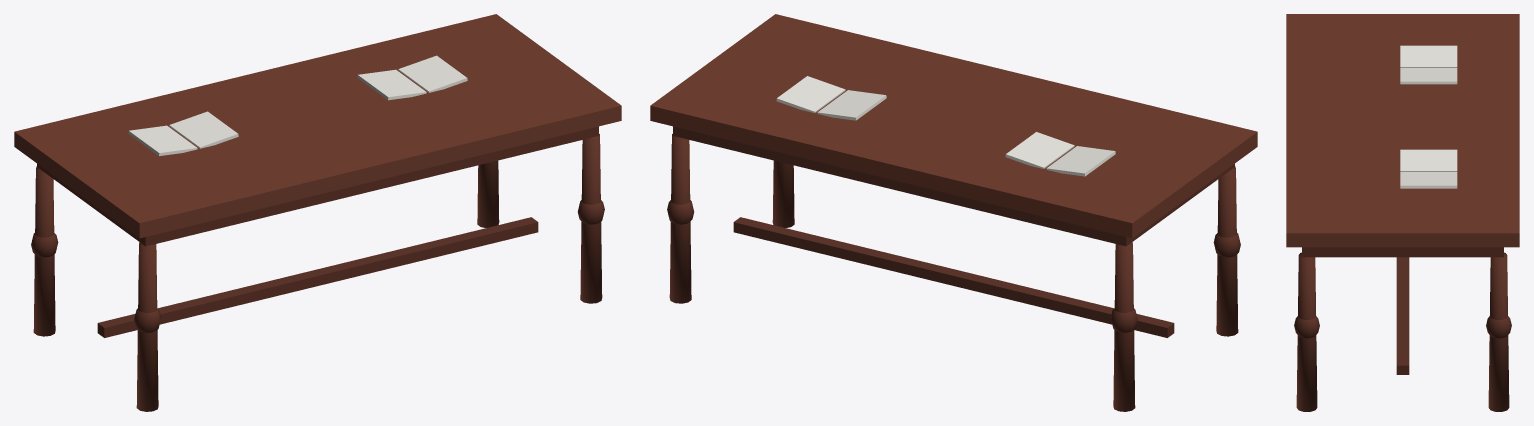
The model's file is SM_PRP_MesaLeitura.fbx.
3 views of the same model, side by side, from view 1: azimuth 30°, elevation 25°; view 2: azimuth 150°, elevation 25°; view 3: azimuth 270°, elevation 25° (orthographic). The views are drawn at different scales.
Parts seen in each view (by area): view 1: SM_PRP_MesaLeitura; view 2: SM_PRP_MesaLeitura; view 3: SM_PRP_MesaLeitura.
Boxes of the visible parts, x1,y1,x2,y2 form: SM_PRP_MesaLeitura: [14, 14, 621, 411]; SM_PRP_MesaLeitura: [650, 14, 1257, 411]; SM_PRP_MesaLeitura: [1286, 14, 1519, 411].
Bounding box in the file's own units: 2 × 0.8023 × 0.9.
